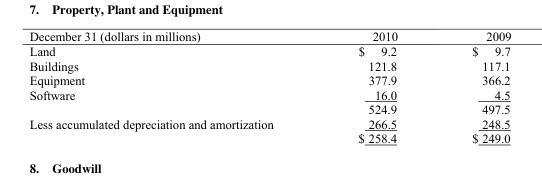table: (28, 28, 510, 145)
table column: (28, 28, 315, 145), (315, 28, 434, 145), (434, 28, 510, 145)
table column header: (28, 28, 510, 43)
table row: (28, 28, 510, 43), (28, 43, 510, 58), (28, 72, 510, 87), (28, 101, 510, 116), (28, 130, 510, 145), (28, 58, 510, 72), (28, 87, 510, 101), (28, 116, 510, 130)
